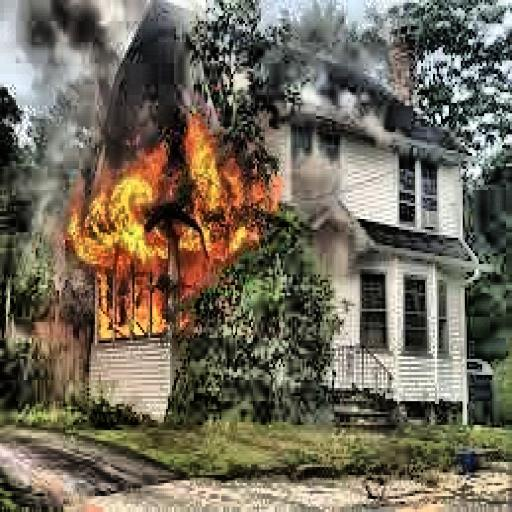fire: (57, 142, 275, 354)
